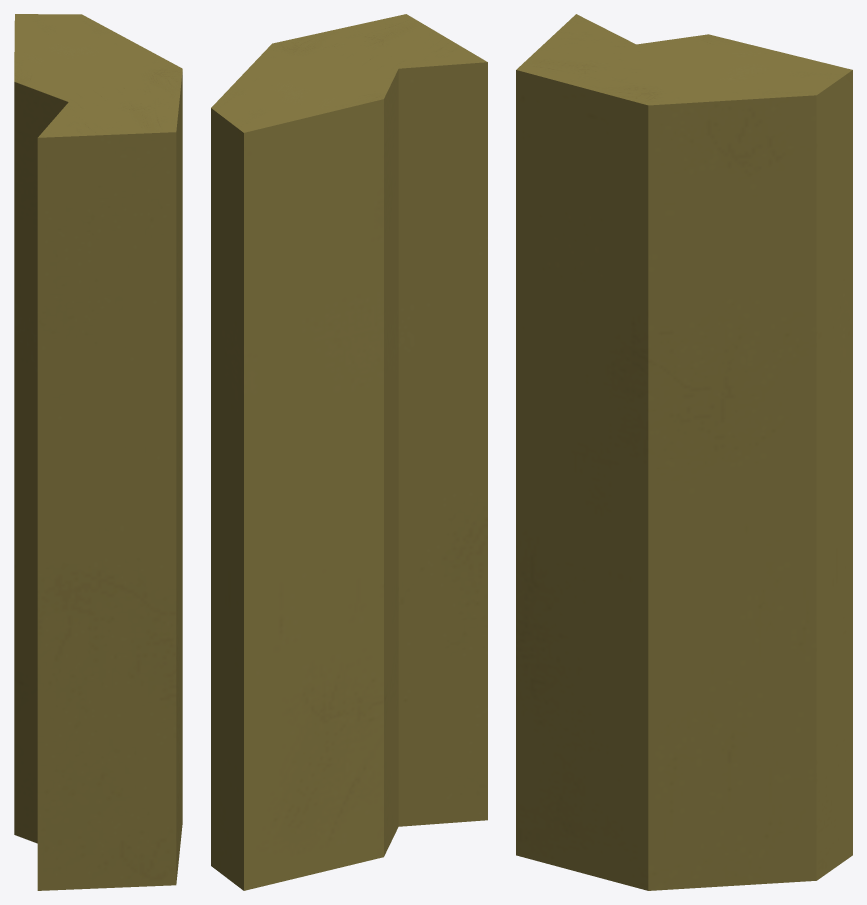
Rendered from luxembourg.DAE.
3 renders of one model, left to right at view 1: azimuth 30°, elevation 25°; view 2: azimuth 150°, elevation 25°; view 3: azimuth 270°, elevation 25°, orthographic. The views are drawn at different scales.
Visible parts, largest first — view 1: Luxembourg; view 2: Luxembourg; view 3: Luxembourg.
Part boxes in pixels (x1,y1,x2,y2): Luxembourg: (14,14,182,890); Luxembourg: (211,14,487,890); Luxembourg: (516,14,852,890).
Bounding box in the file's own units: 6.24 × 9.71 × 25.
1 material, 1 textured.
